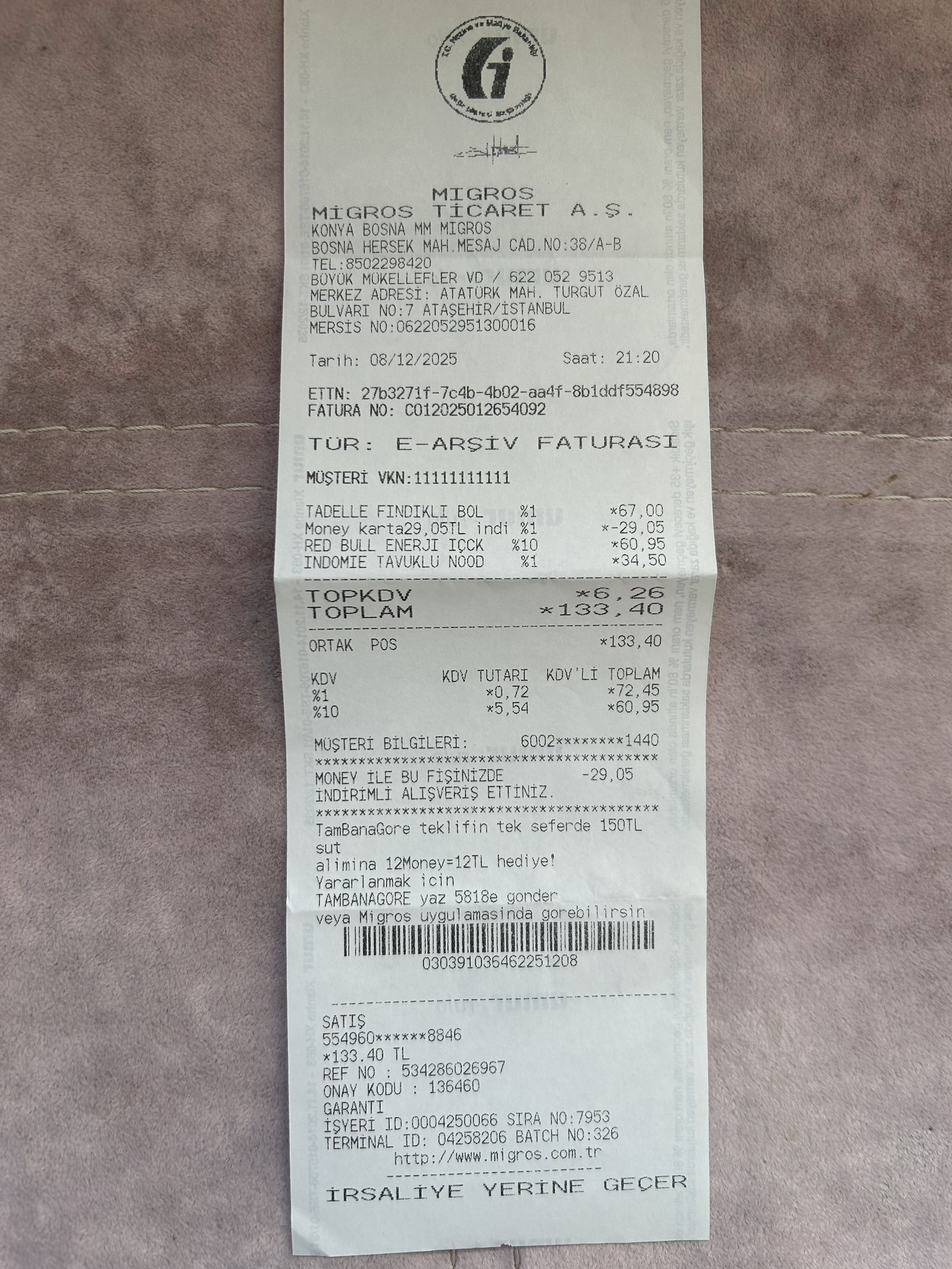date: (365, 350, 462, 370)
price: (553, 599, 668, 619)
workplace: (301, 183, 647, 256)
